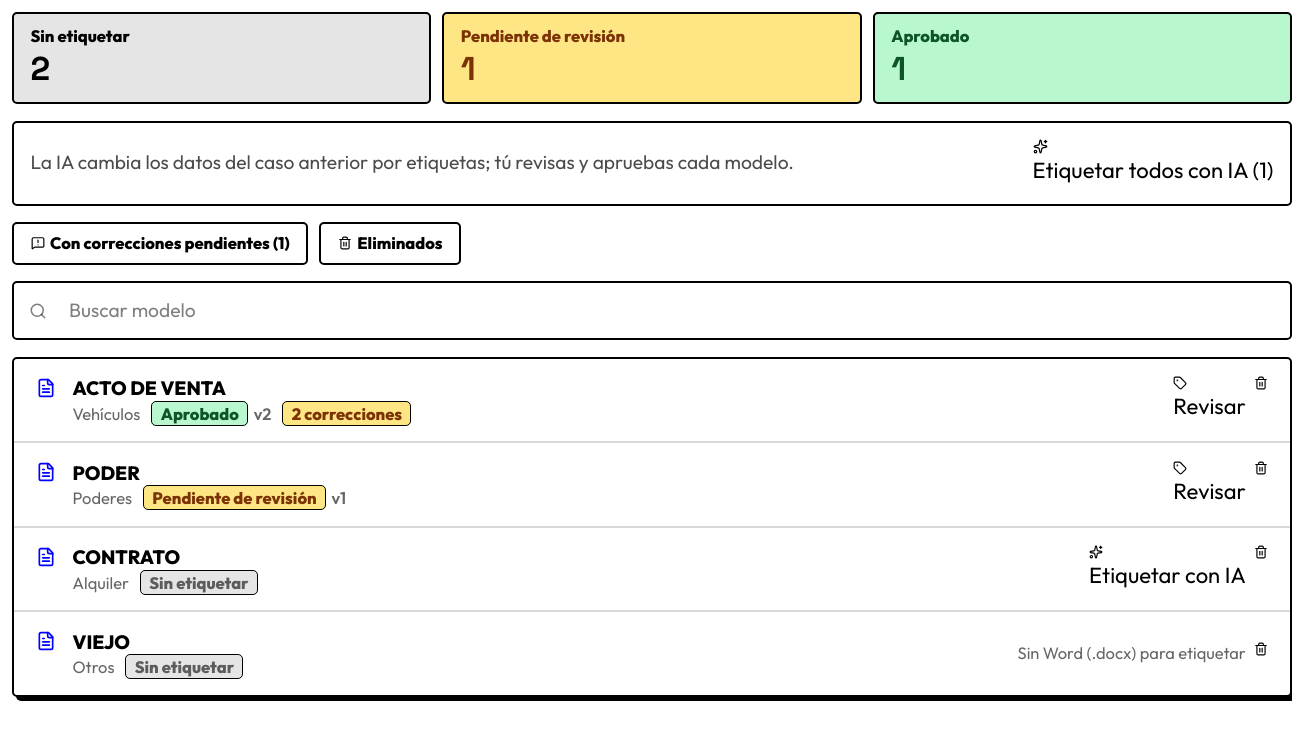
Test: Revisión de etiquetas › counts per status and filters by clicking a counter
Expected: the button "Sin etiquetar 2" is shown, x1=12 y1=12 x2=431 y2=104
Expected: the button "Aprobado 1" is shown, x1=873 y1=12 x2=1292 y2=104
Click the button "Pendiente de revisión 1": (543, 36) x1=442 y1=12 x2=862 y2=104
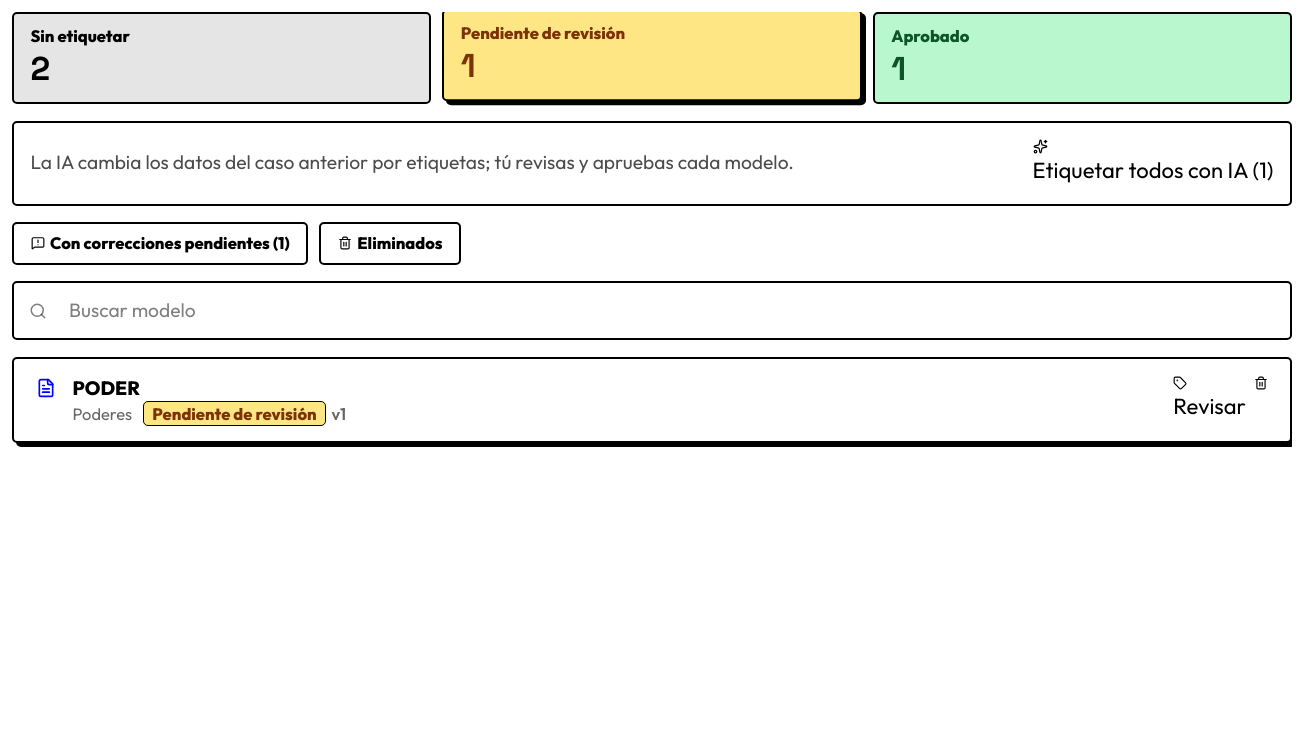
Expected: the text "PODER" is shown, x1=72 y1=376 x2=140 y2=400
Now the number of list items is 1, box x1=14 y1=358 x2=1290 y2=441
